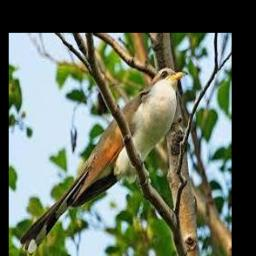Cuckoo: (20, 68, 187, 254)
